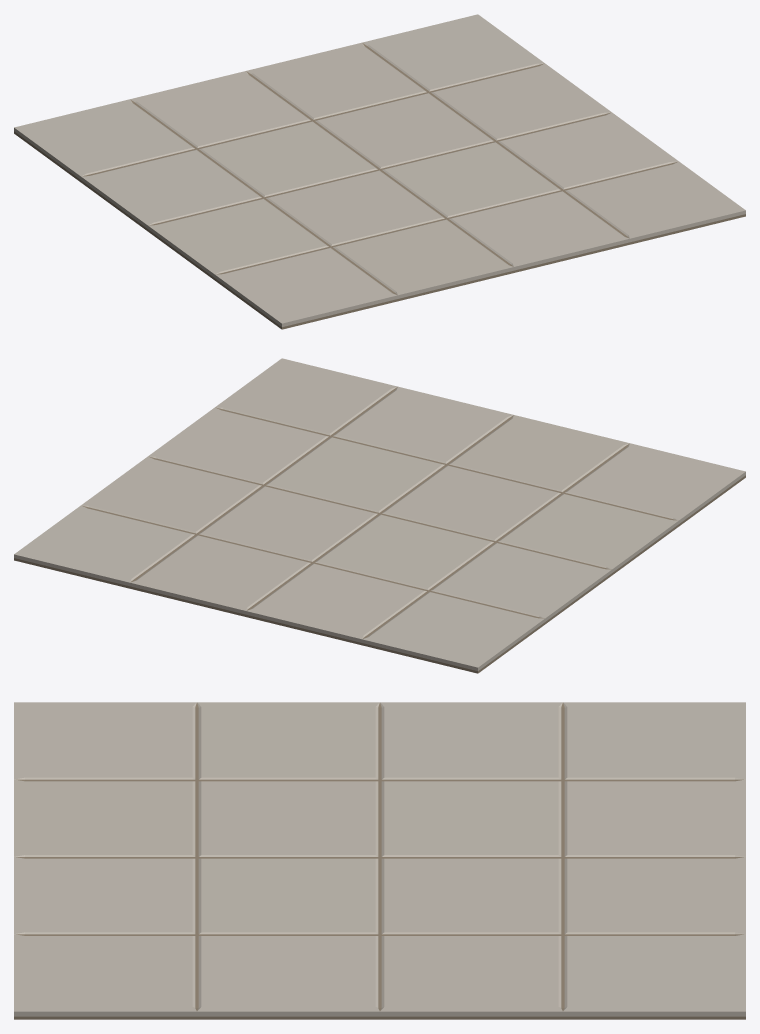
Rendered from paving.glb.
The picture shows the model from 3 angles, top to bottom: view 1: azimuth 30°, elevation 25°; view 2: azimuth 150°, elevation 25°; view 3: azimuth 270°, elevation 25°; orthographic projection. The views are drawn at different scales.
Parts seen in each view (by area): view 1: paving.001; view 2: paving.001; view 3: paving.001.
Boxes of the visible parts, x1=… form: paving.001: x1=14, y1=14, x2=745, y2=329; paving.001: x1=14, y1=358, x2=745, y2=673; paving.001: x1=14, y1=702, x2=745, y2=1019.
Size of the model in its own units: 4 by 0.05 by 4.
